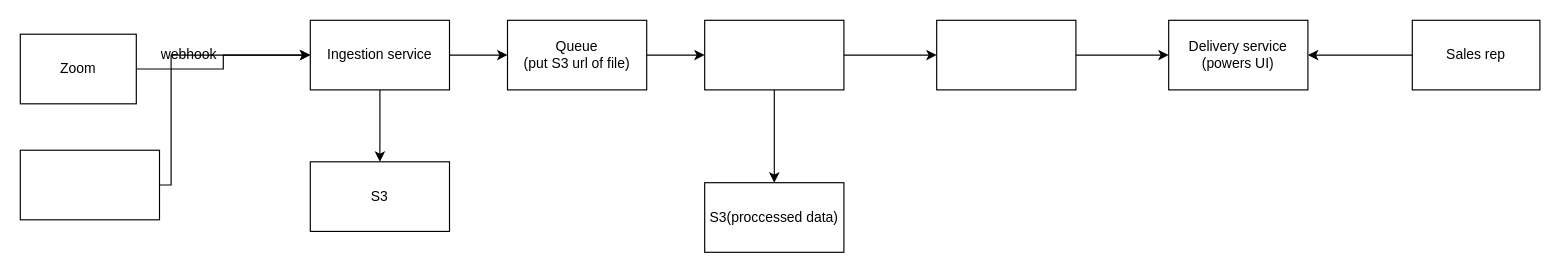
This 1560x273 diagram has some shape labels left out. Here are the shapes that lost their labels. From the top down, the centre of each, then its label:
At point 774,54: "Video processor".
At point 1006,54: "ML engine".
At point 89,184: "Google meet".
